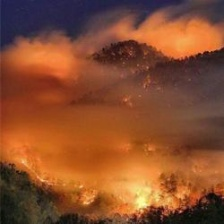fire: (18, 154, 201, 216)
